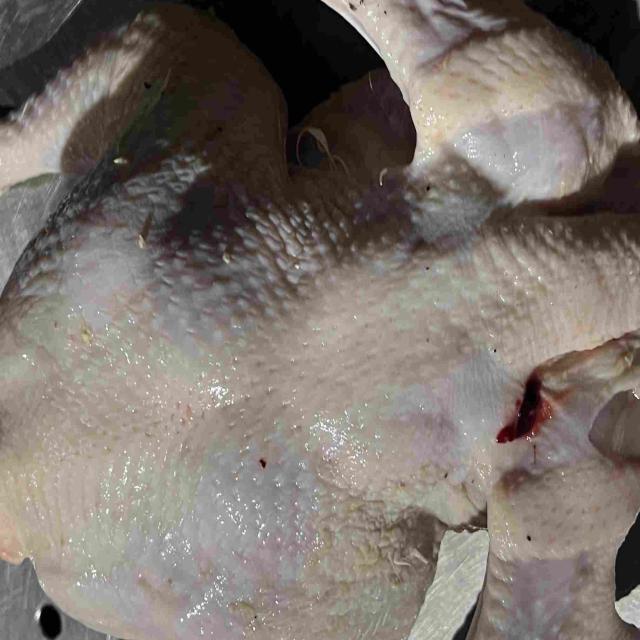back: (0, 196, 490, 592)
leg: (0, 8, 285, 205), (126, 567, 421, 640)
neck: (478, 189, 640, 364)
wing: (321, 0, 640, 199), (457, 357, 640, 640)
